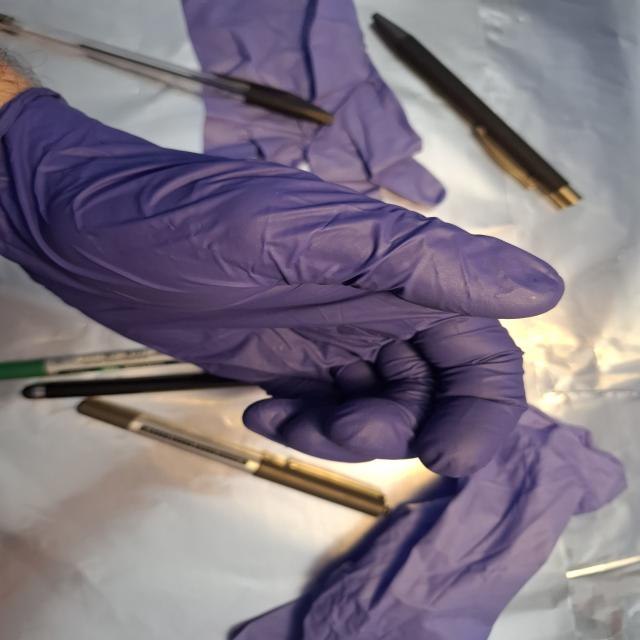glove_on: (0, 80, 572, 482)
